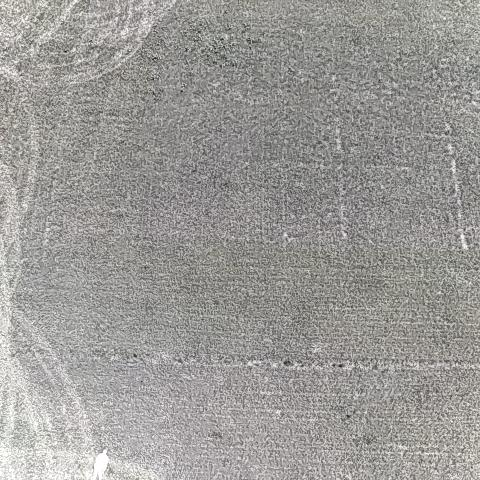person: (91, 444, 112, 480)
